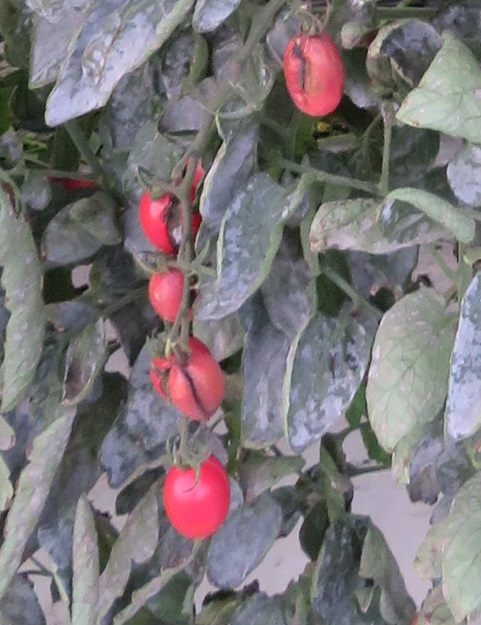red: (157, 450, 234, 544), (169, 352, 226, 424), (137, 187, 179, 255), (148, 268, 195, 326)
